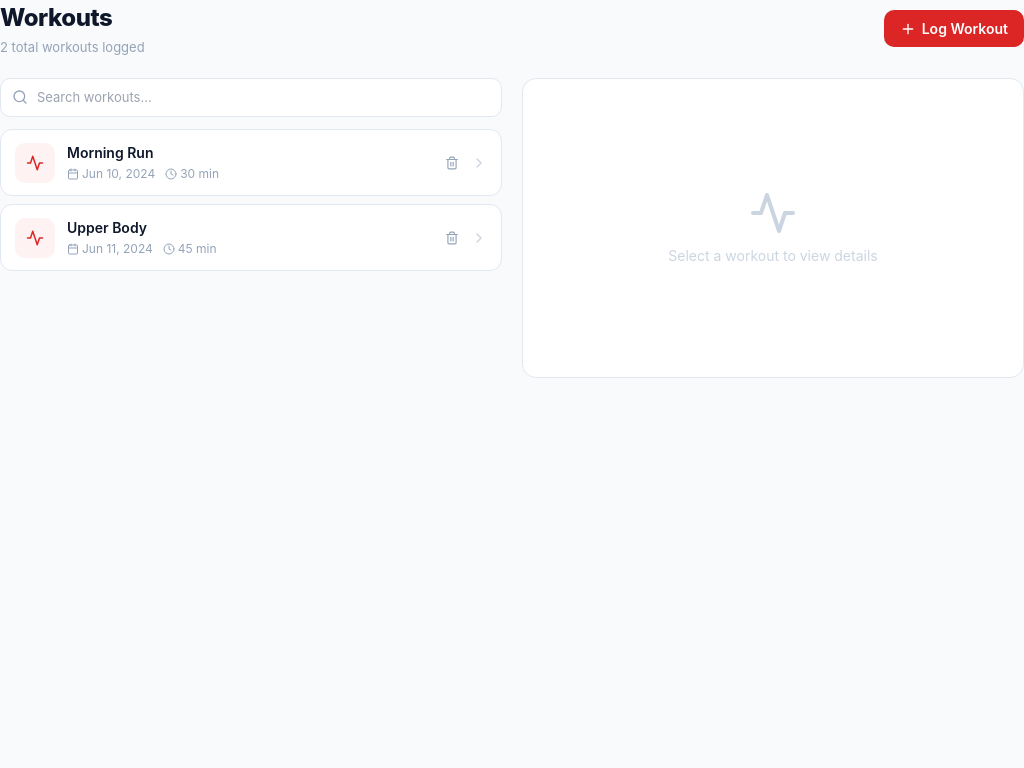
Test: Workouts Page › opens create modal on button click
Check: the text "Morning Run" is shown, box [67, 144, 154, 161]
Click the button "Log Workout".
click(954, 29)  # box [884, 10, 1023, 47]
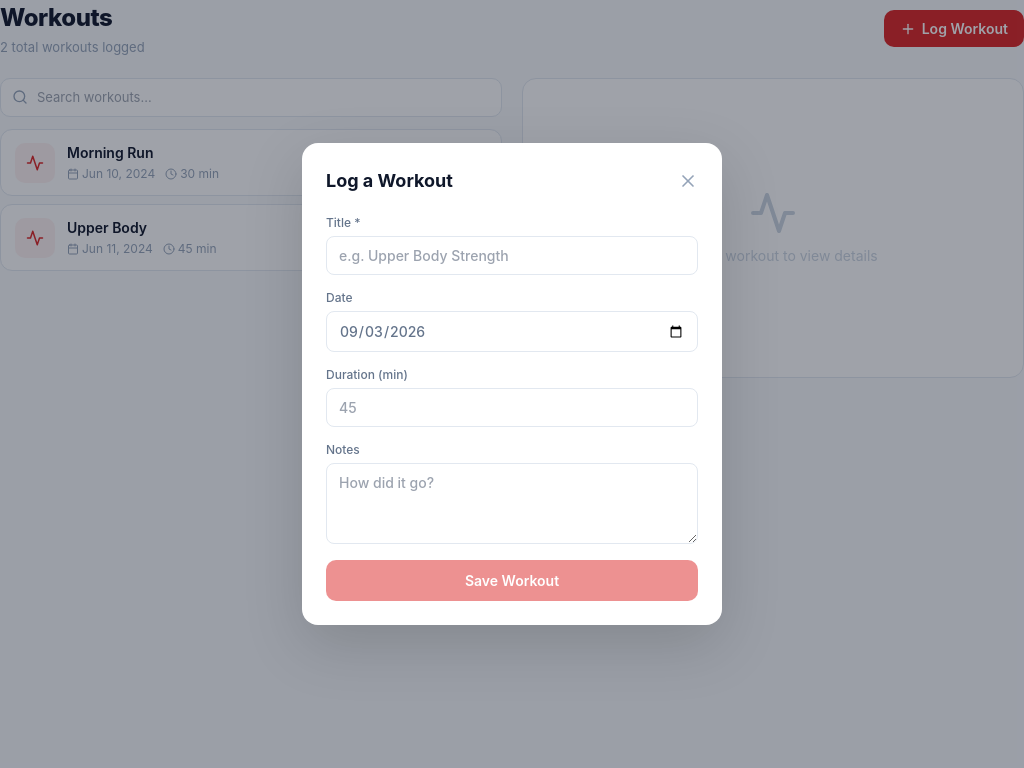
Check: the heading "Log a Workout" is shown, box [326, 167, 453, 194]
